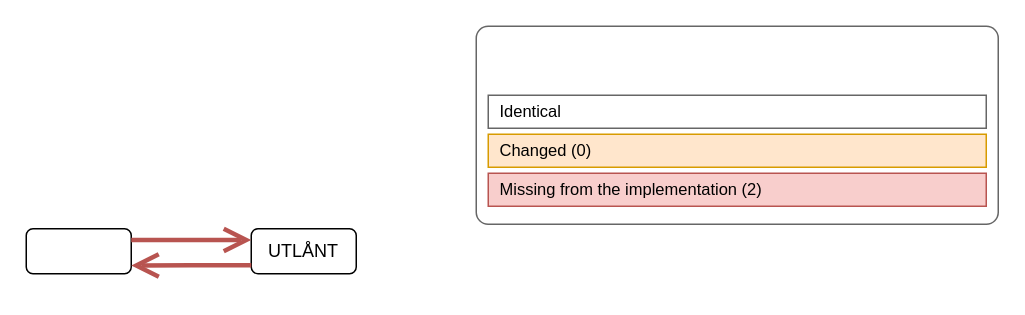
Image size: 1025x315. Some labels were removed from this diagram. The box of each missing label's shape, as (x1, y1, x2, y2) in pixels:
DESIGN drawn by a person · diagrams/input/state-lab_utstyr.drawio: (475, 25, 998, 224)
LEDIG: (25, 227, 131, 274)
